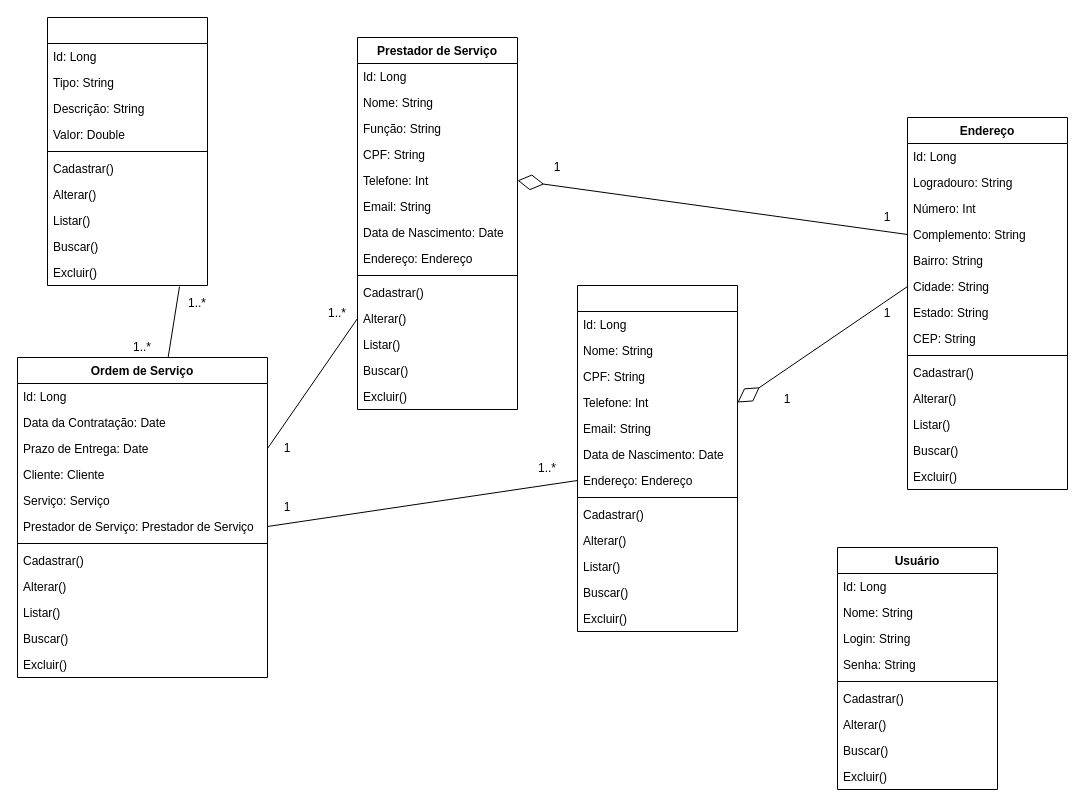
Image size: 1085x810. Some labels were removed from this diagram. The box of each missing label's shape, as (x1, y1, x2, y2) in pixels:
Cliente: (576, 284, 738, 632)
Serviço: (46, 16, 208, 286)
